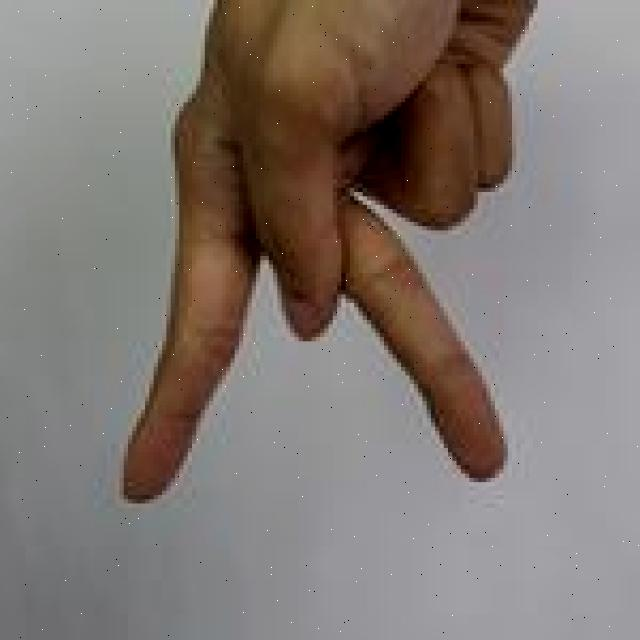P: (110, 0, 540, 509)
